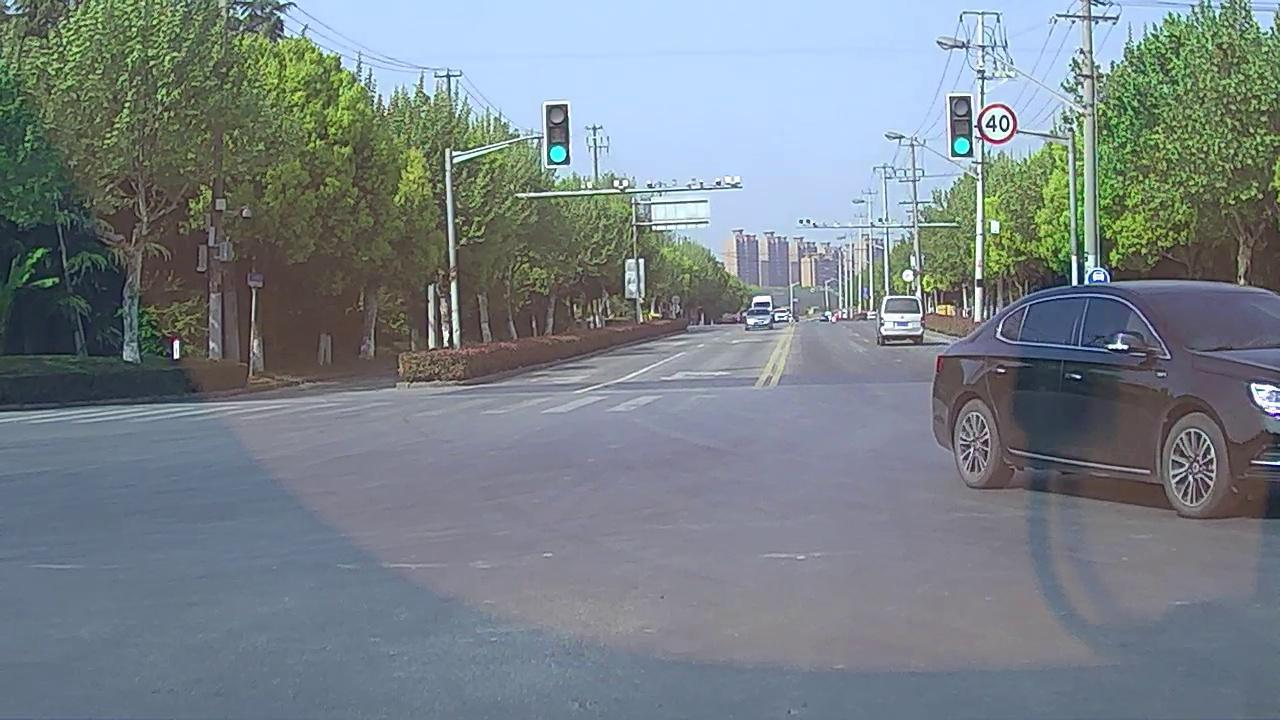traffic_light: (545, 102, 570, 166), (950, 94, 972, 156)
